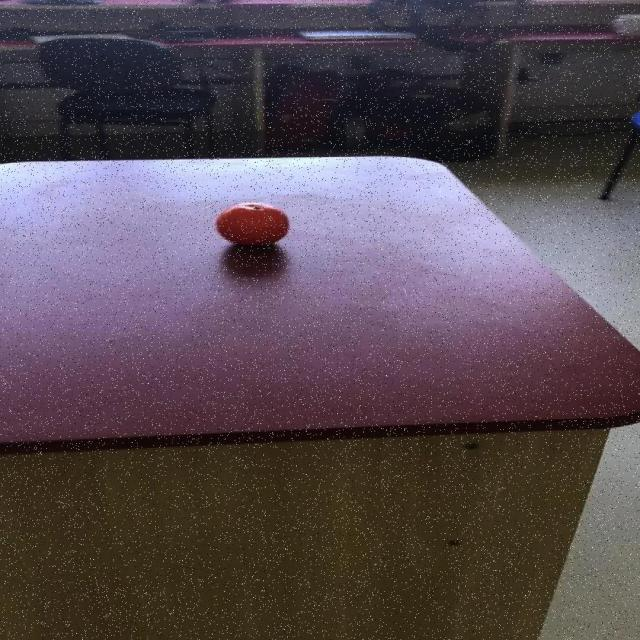Orange: (216, 202, 290, 246)
